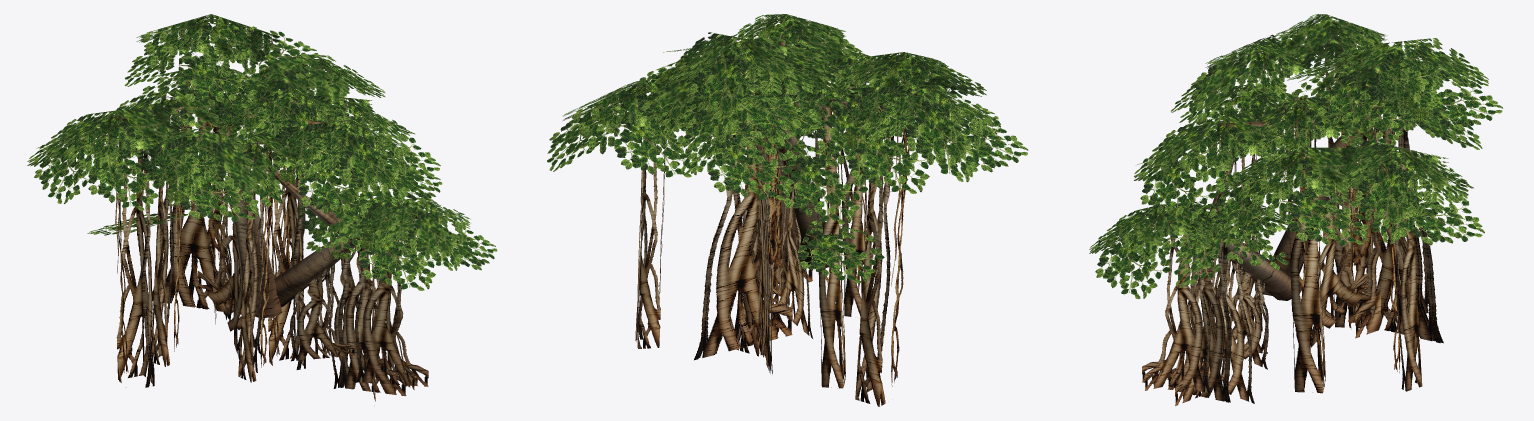
The model's file is banyan_1.glb.
3 renders of one model, left to right at view 1: azimuth 30°, elevation 25°; view 2: azimuth 150°, elevation 25°; view 3: azimuth 270°, elevation 25°, orthographic. The views are drawn at different scales.
Visible parts, largest first — view 1: banyan_1; view 2: banyan_1; view 3: banyan_1.
Part boxes in pixels (<box>): banyan_1: <box>27,14,497,401</box>; banyan_1: <box>547,14,1028,406</box>; banyan_1: <box>1089,14,1502,405</box>.
Size of the model in its own units: 12.61 by 10.26 by 12.13.
2 materials, 2 textured.
